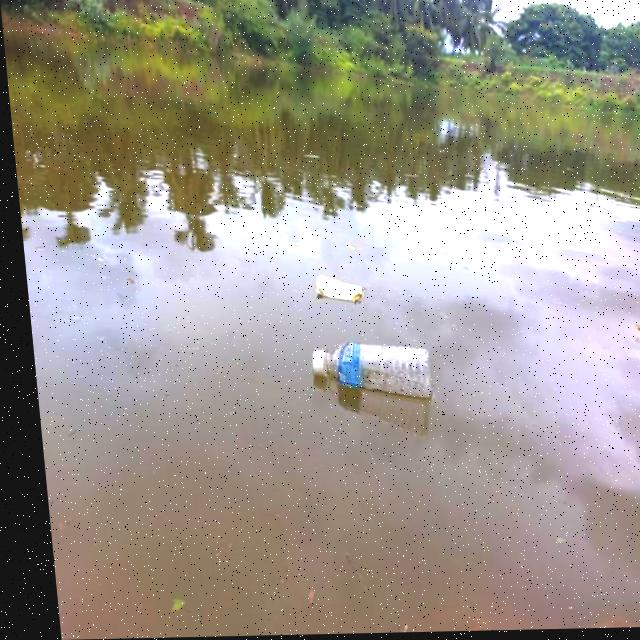paper: (299, 272, 368, 325)
waterbottle: (300, 328, 435, 423)
